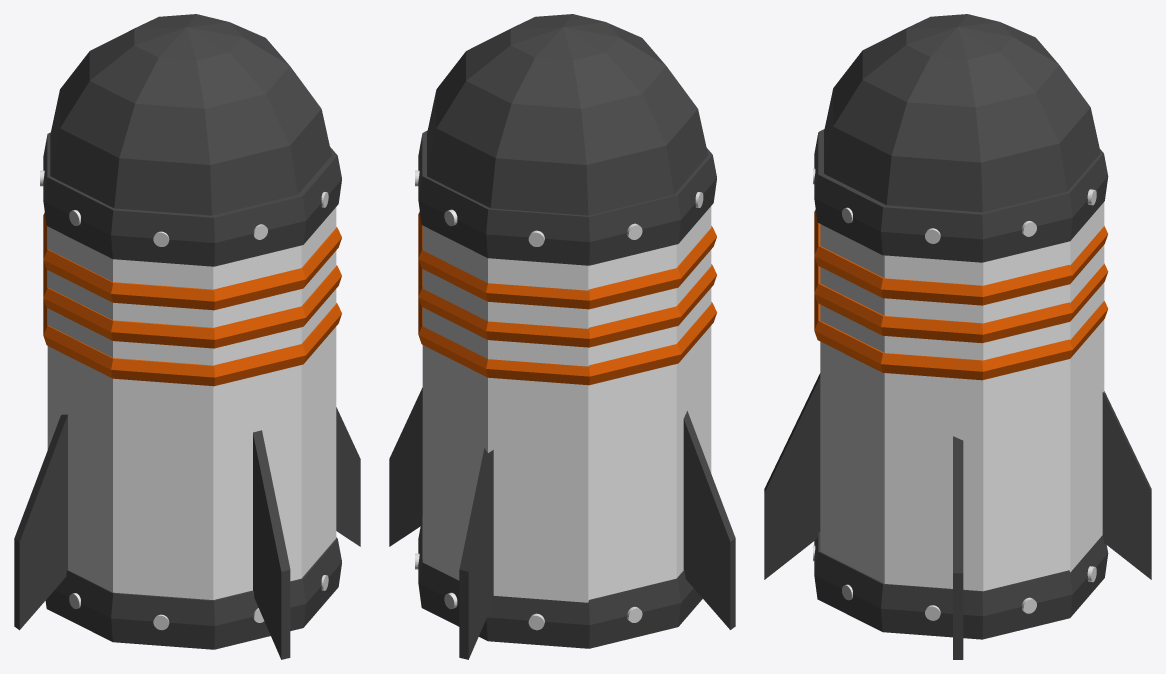
The model's file is Rocket Wide To Tail 2.fbx.
The picture shows the model from 3 angles, left to right: view 1: azimuth 30°, elevation 25°; view 2: azimuth 150°, elevation 25°; view 3: azimuth 270°, elevation 25°; orthographic projection.
Parts seen in each view (by area): view 1: Окружность.012; view 2: Окружность.012; view 3: Окружность.012.
Boxes of the visible parts, x1,y1,x2,y2 form: Окружность.012: (14, 14, 360, 659); Окружность.012: (389, 14, 735, 659); Окружность.012: (764, 14, 1151, 659).
Bounding box in the file's own units: 373 × 584 × 373.
